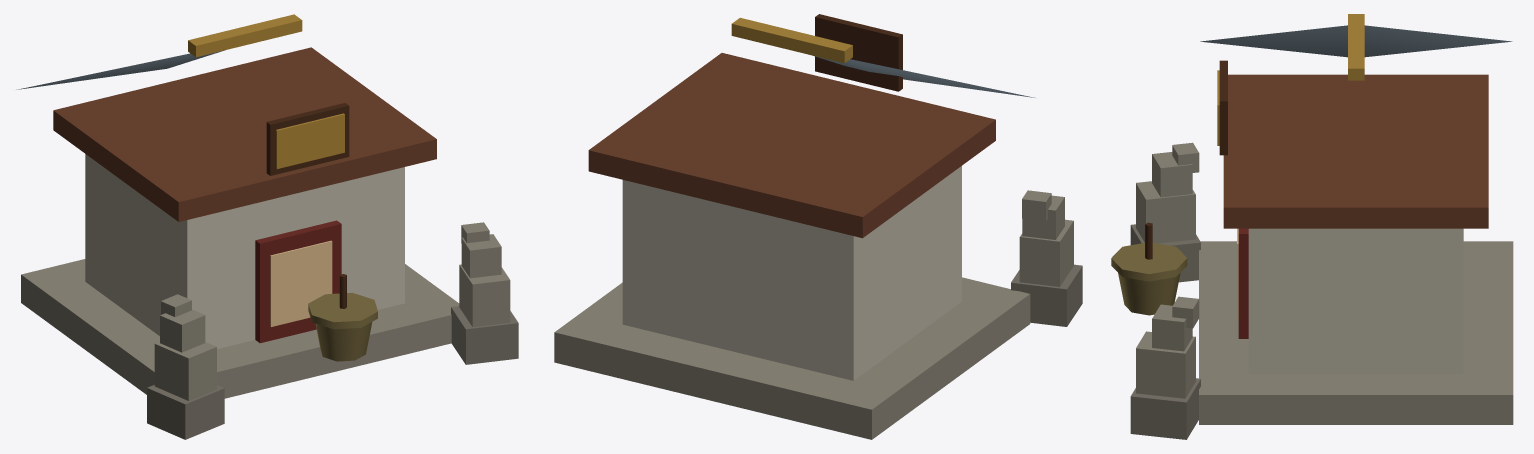
Rendered from tang-shrine.glb.
3 views of the same model, side by side, from view 1: azimuth 30°, elevation 25°; view 2: azimuth 150°, elevation 25°; view 3: azimuth 270°, elevation 25° (orthographic). The views are drawn at different scales.
Visible parts, largest first — view 1: tang-shrine; view 2: tang-shrine; view 3: tang-shrine.
Boxes of the visible parts, <box> form: tang-shrine: <box>16,14,518,439</box>; tang-shrine: <box>554,14,1082,439</box>; tang-shrine: <box>1111,14,1513,439</box>.
Bounding box in the file's own units: 5.25 × 4.09 × 4.94.
